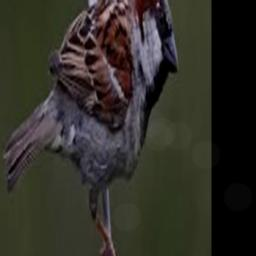Sparrow: (3, 0, 178, 256)
